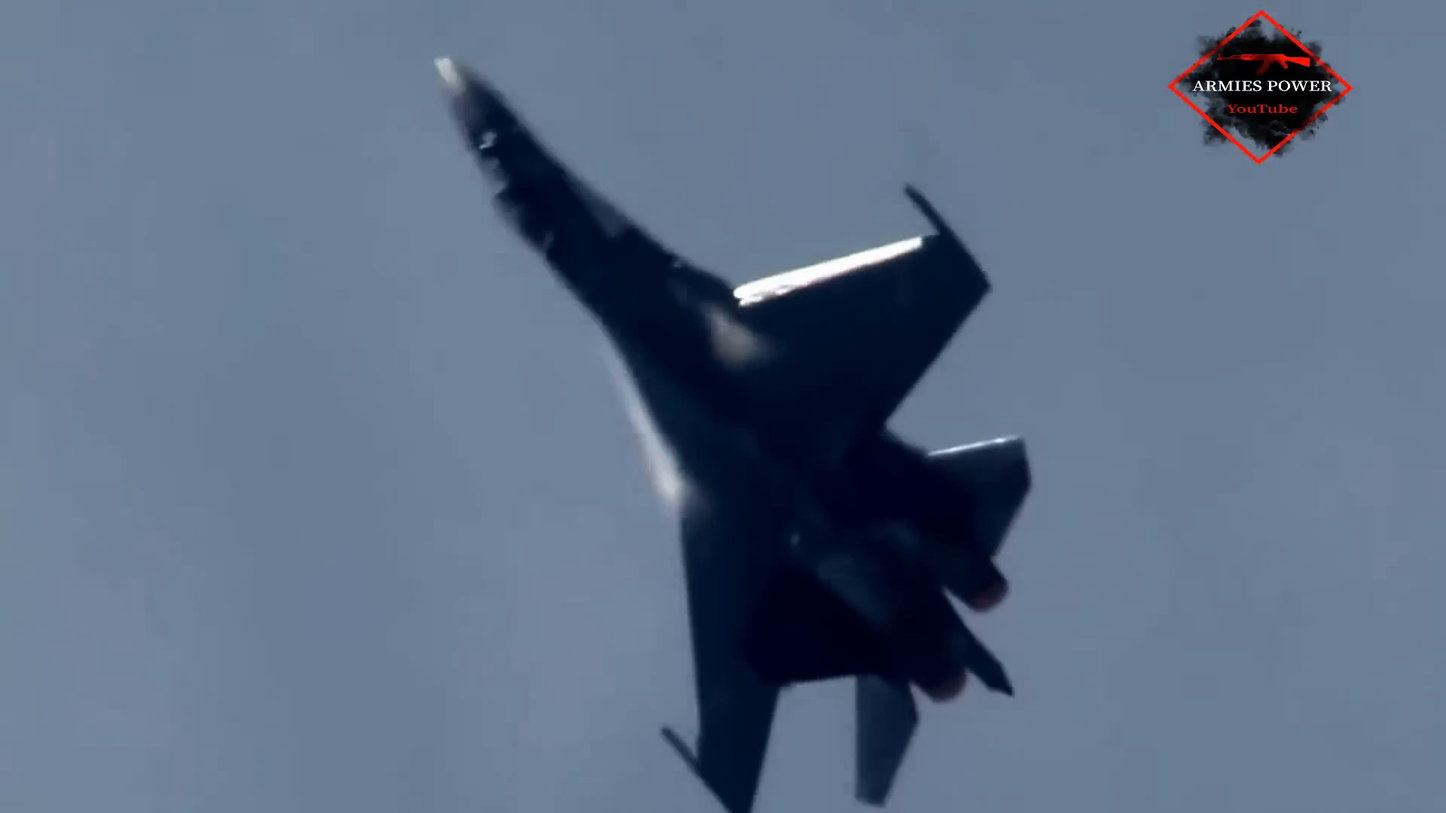Su35: (431, 58, 1034, 813)
